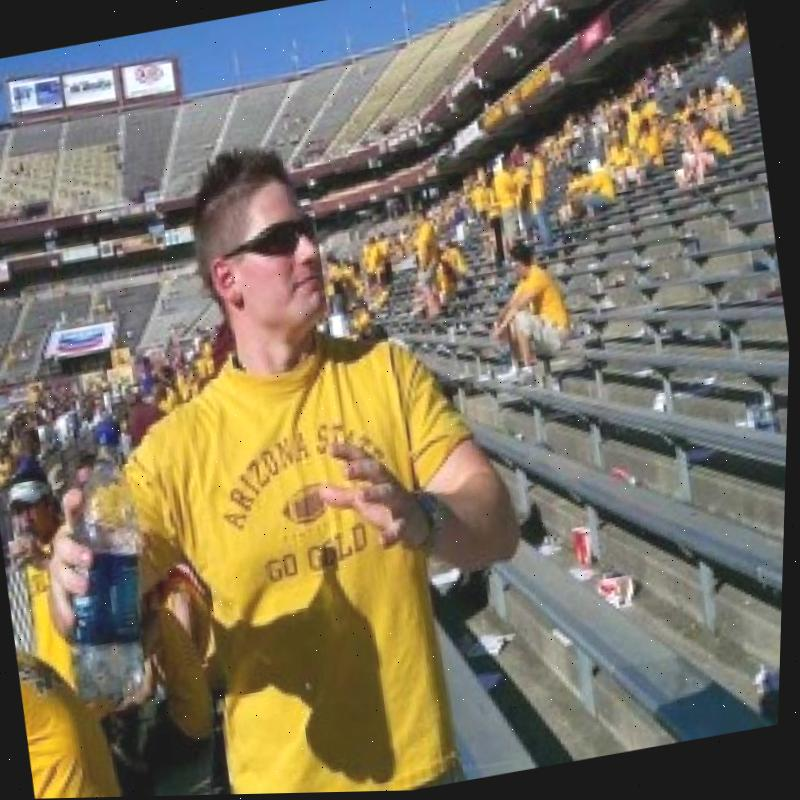botella: (34, 417, 176, 719)
